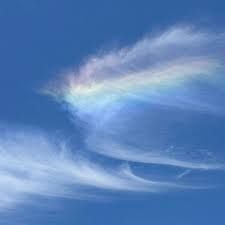Cirrus: (51, 21, 225, 166), (3, 120, 176, 215)
